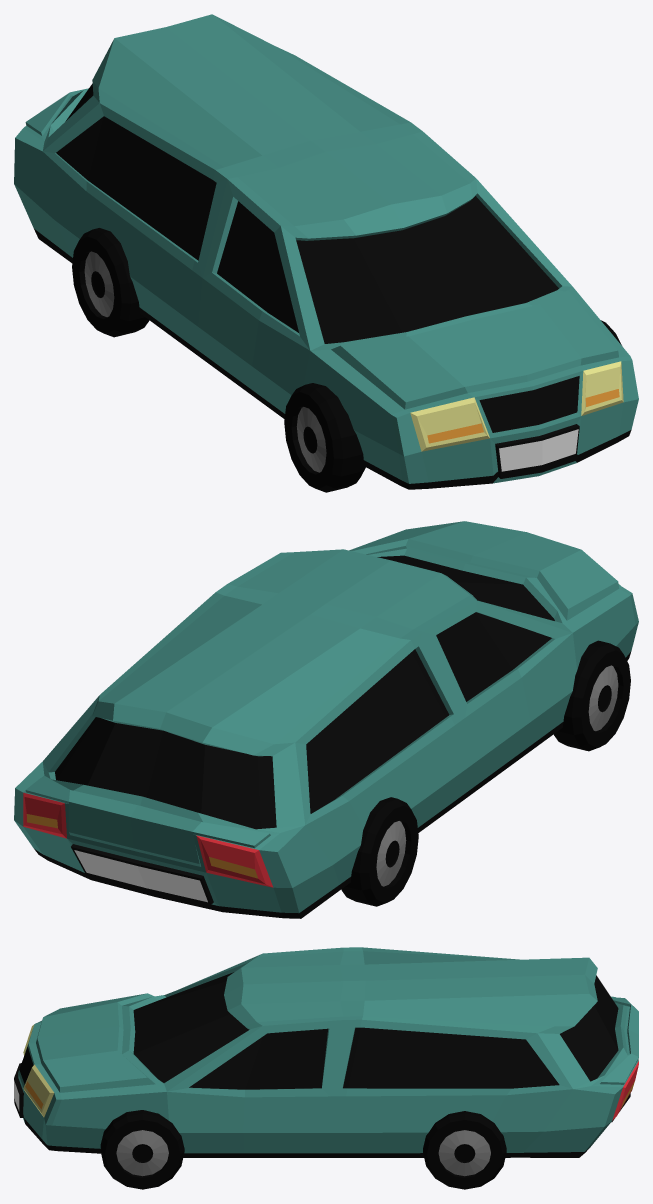
Rendered from car03.fbx.
3 views of the same model, one above another, from view 1: azimuth 30°, elevation 25°; view 2: azimuth 150°, elevation 25°; view 3: azimuth 270°, elevation 25° (orthographic). The views are drawn at different scales.
Parts seen in each view (by area): view 1: Auto.002, Reifen.010, Reifen.011; view 2: Auto.002, Reifen.010, Reifen.011; view 3: Auto.002, Reifen.008, Reifen.009.
Boxes of the visible parts, x1=… form: Auto.002: x1=14, y1=14, x2=638, y2=489; Reifen.010: x1=284, y1=383, x2=365, y2=492; Reifen.011: x1=72, y1=228, x2=149, y2=337; Auto.002: x1=14, y1=521, x2=638, y2=918; Reifen.010: x1=553, y1=640, x2=630, y2=751; Reifen.011: x1=341, y1=797, x2=418, y2=906; Auto.002: x1=14, y1=947, x2=638, y2=1157; Reifen.008: x1=100, y1=1110, x2=184, y2=1189; Reifen.009: x1=423, y1=1111, x2=506, y2=1189.
Size of the model in its own units: 226 by 156 by 543.
